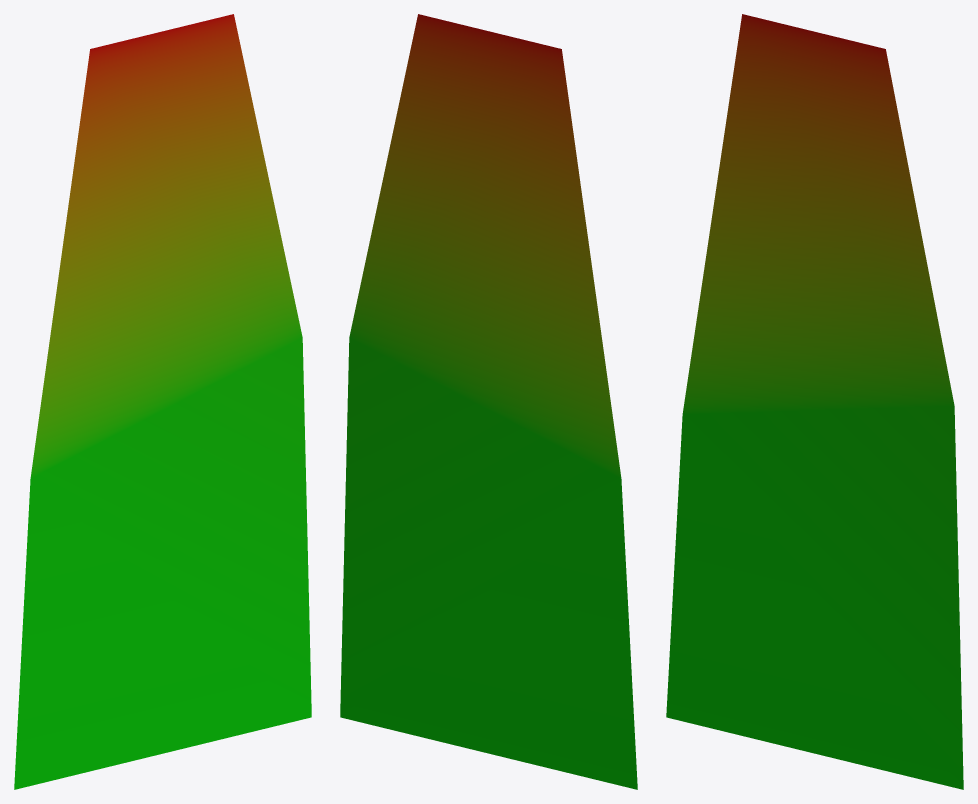
Rendered from Sunflower_LOD3_Var6.fbx.
The picture shows the model from 3 angles, left to right: view 1: azimuth 30°, elevation 25°; view 2: azimuth 150°, elevation 25°; view 3: azimuth 330°, elevation 25°; orthographic projection.
Parts seen in each view (by area): view 1: _6c19_Var6_LOD3; view 2: _6c19_Var6_LOD3; view 3: _6c19_Var6_LOD3.
Boxes of the visible parts, x1,y1,x2,y2 form: _6c19_Var6_LOD3: (14, 14, 311, 789); _6c19_Var6_LOD3: (340, 14, 637, 789); _6c19_Var6_LOD3: (666, 14, 963, 789).
Size of the model in its own units: 39.63 by 91.89 by 7.63e-06.
